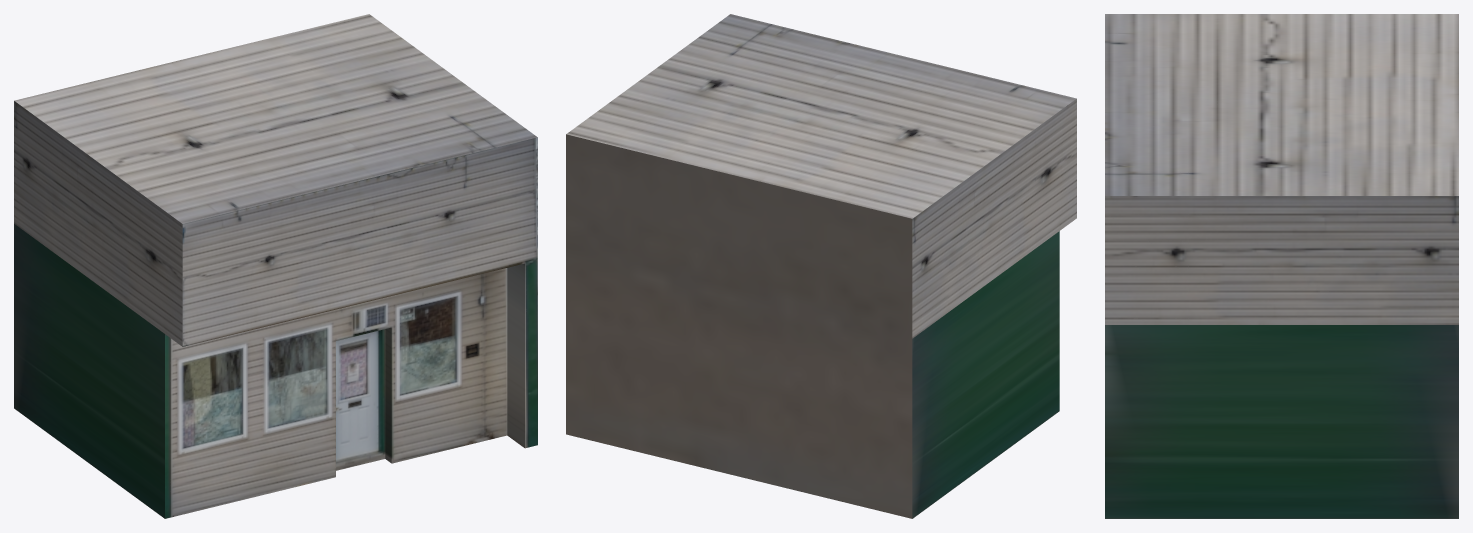
The model's file is Build_White_Shutter.fbx.
The picture shows the model from 3 angles, left to right: view 1: azimuth 30°, elevation 25°; view 2: azimuth 150°, elevation 25°; view 3: azimuth 270°, elevation 25°; orthographic projection. The views are drawn at different scales.
Parts seen in each view (by area): view 1: Build_White_Shutter; view 2: Build_White_Shutter; view 3: Build_White_Shutter.
Boxes of the visible parts, x1,y1,x2,y2 form: Build_White_Shutter: (14, 14, 537, 518); Build_White_Shutter: (566, 14, 1076, 518); Build_White_Shutter: (1105, 14, 1458, 518).
Bounding box in the file's own units: 217 × 180 × 179.
Materials: 1 (1 with a texture image).
